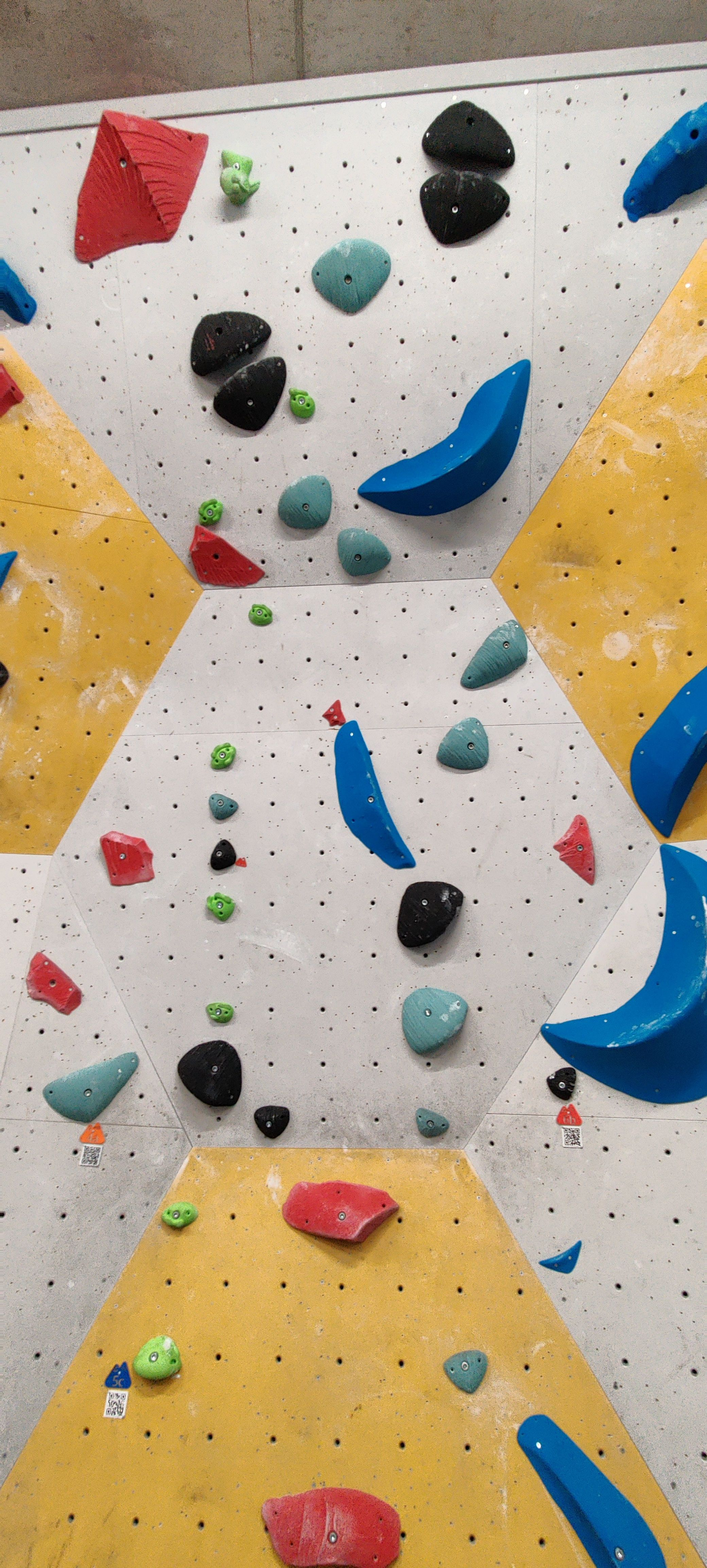hold: (541, 845, 707, 1102), (359, 359, 530, 515), (518, 1415, 666, 1568), (75, 112, 208, 262), (631, 669, 707, 837), (334, 720, 415, 869), (262, 1487, 401, 1568), (623, 102, 707, 222), (282, 1181, 399, 1243), (43, 1052, 139, 1123), (421, 169, 509, 245), (422, 101, 514, 168), (312, 239, 391, 313), (214, 357, 286, 431), (191, 312, 271, 376), (460, 620, 528, 689), (189, 525, 264, 587), (402, 987, 468, 1055), (397, 881, 463, 948), (177, 1041, 241, 1107), (26, 952, 82, 1013), (100, 831, 154, 885), (278, 475, 332, 529), (554, 815, 595, 885), (437, 718, 489, 770), (338, 528, 391, 576), (0, 258, 36, 324), (133, 1335, 182, 1381), (220, 150, 259, 205), (444, 1349, 488, 1394), (540, 1240, 582, 1274), (0, 363, 24, 417), (254, 1106, 290, 1139), (547, 1065, 576, 1101), (161, 1201, 198, 1229), (415, 1108, 449, 1138), (206, 892, 235, 922), (210, 839, 236, 871), (290, 389, 315, 421), (209, 793, 238, 820), (198, 498, 223, 526), (211, 743, 236, 770), (323, 699, 346, 728), (0, 551, 17, 588), (206, 1002, 234, 1024), (249, 603, 272, 626), (0, 661, 9, 688)
